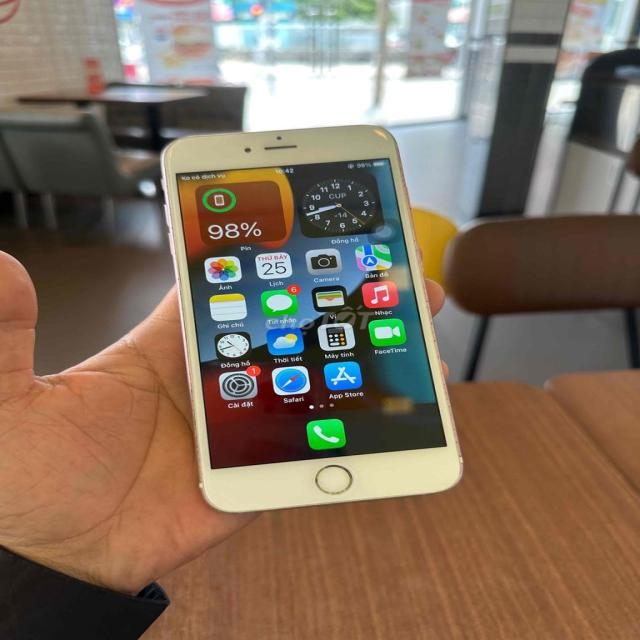gen_6: (153, 118, 479, 510)
